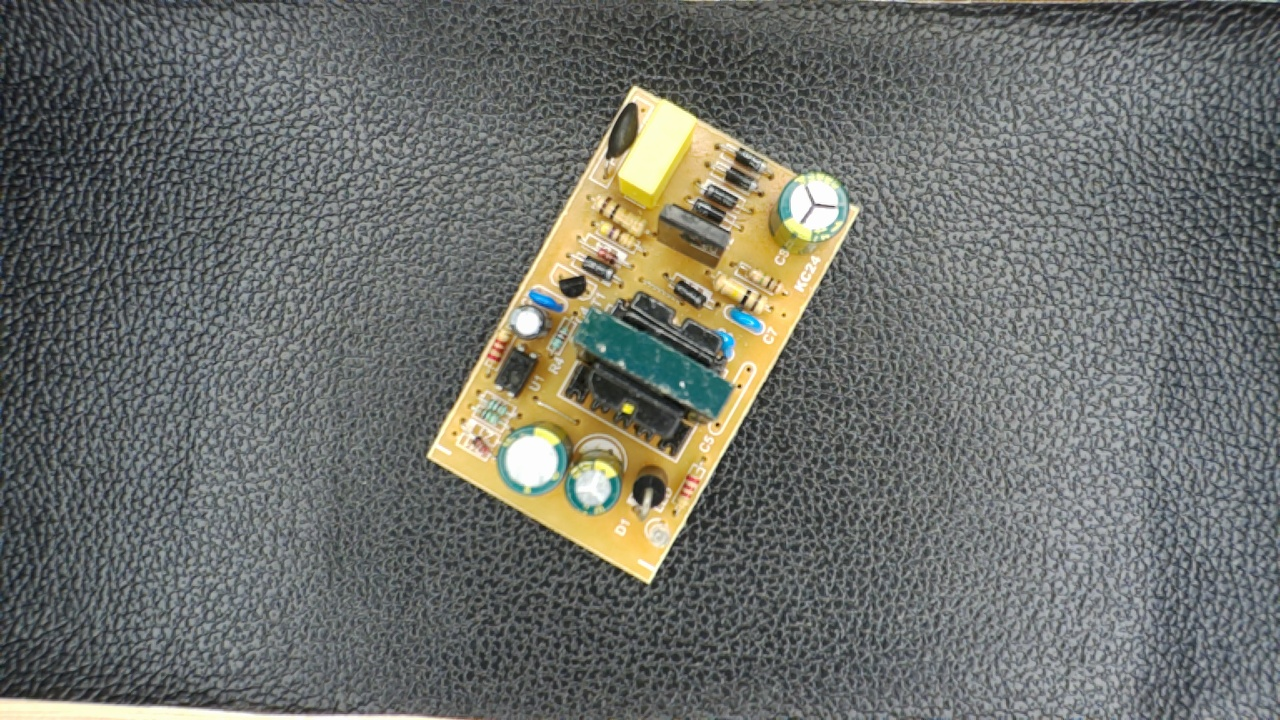fuse: (597, 96, 644, 180)
hv_capacitor: (767, 168, 852, 255)
optocoupler: (491, 341, 545, 404)
